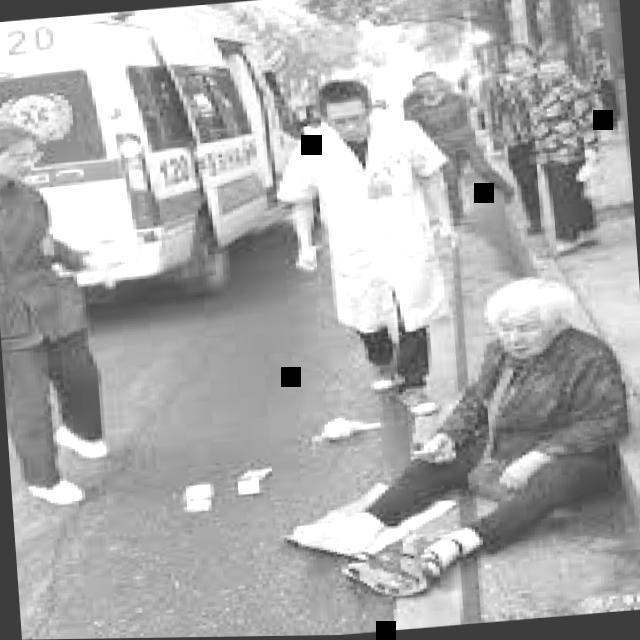Fall-Detected: (259, 257, 640, 614)
